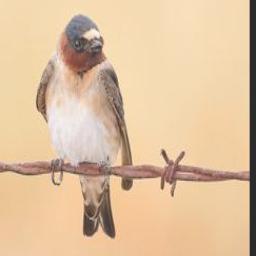Swallow: (36, 11, 134, 239)
